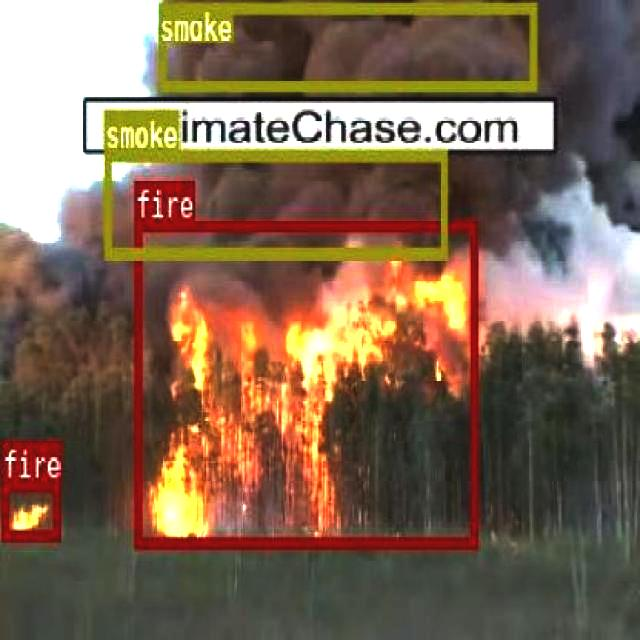fire: (134, 219, 477, 547), (0, 478, 60, 538)
smoke: (103, 150, 446, 258), (158, 0, 536, 89)
